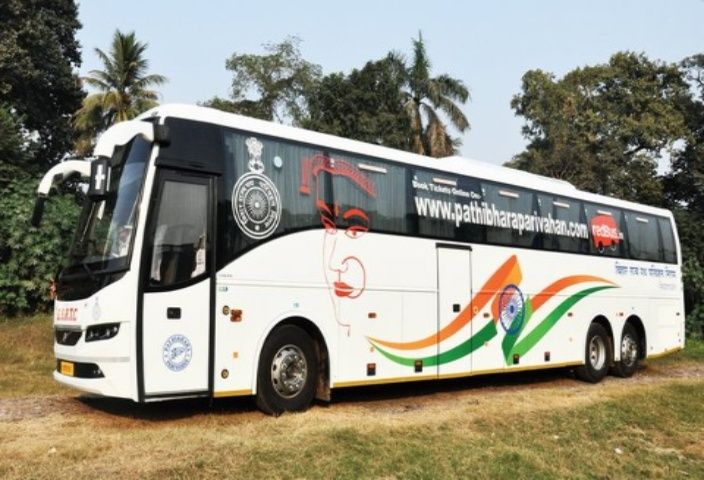bus: (23, 93, 700, 416)
